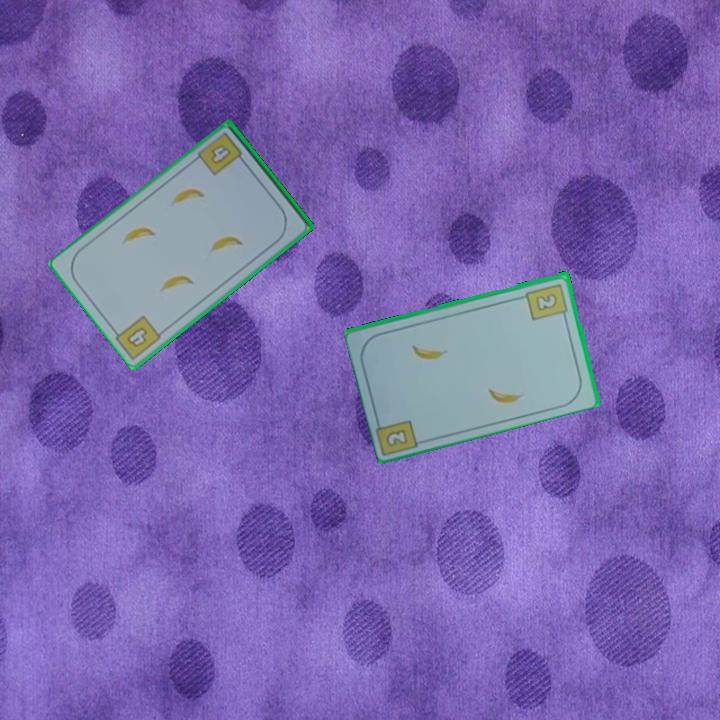2b: (523, 279, 571, 323), (382, 425, 411, 450)
4b: (196, 129, 249, 179), (123, 324, 150, 351)
